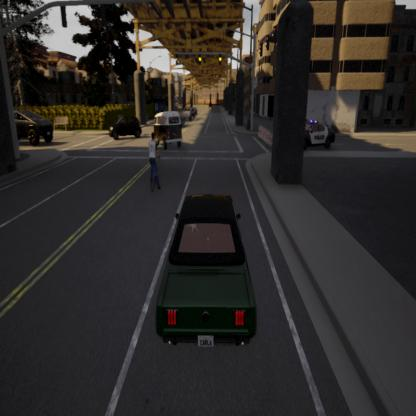Cars: (158, 195, 256, 348), (13, 110, 53, 145), (154, 112, 182, 149), (304, 120, 334, 150), (110, 115, 141, 140), (148, 132, 158, 192), (183, 104, 198, 121)
